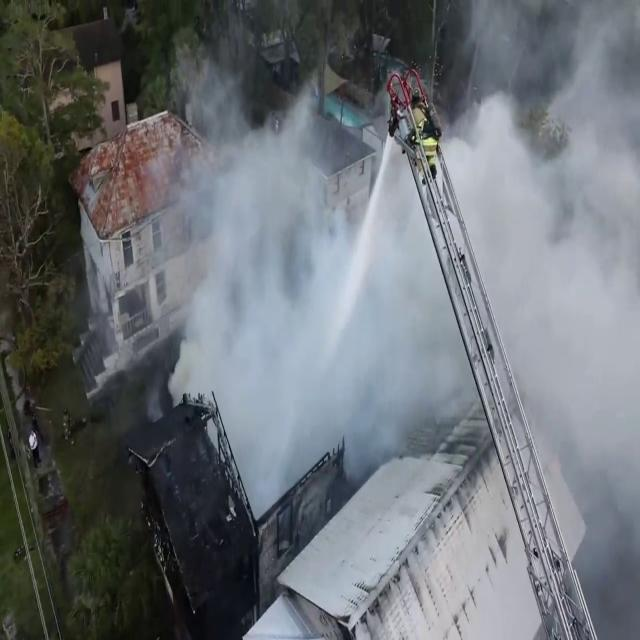Smoke: (162, 274, 346, 518)
